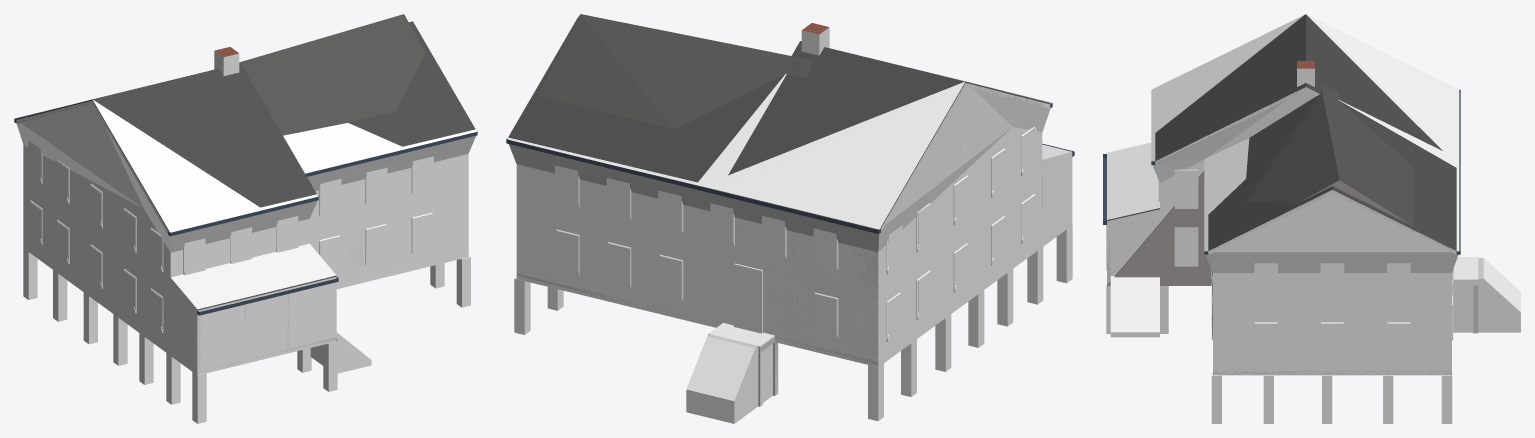
The model's file is eca_bld_house_01_a.dae.
3 renders of one model, left to right at view 1: azimuth 30°, elevation 25°; view 2: azimuth 150°, elevation 25°; view 3: azimuth 270°, elevation 25°, orthographic. The views are drawn at different scales.
Visible parts, largest first — view 1: Colmesh-1, eca_bld_house_01_a_a1100, eca_bld_house_01_a_a150, eca_bld_house_01_a_a20; view 2: Colmesh-1, eca_bld_house_01_a_a1100, eca_bld_house_01_a_a150, eca_bld_house_01_a_a20; view 3: Colmesh-1, eca_bld_house_01_a_a150, eca_bld_house_01_a_a1100, eca_bld_house_01_a_a20.
Boxes of the visible parts, x1,y1,x2,y2 form: Colmesh-1: (15,51,476,423); eca_bld_house_01_a_a1100: (14,21,475,375); eca_bld_house_01_a_a150: (18,47,477,375); eca_bld_house_01_a_a20: (239,14,442,341); Colmesh-1: (507,27,1072,423); eca_bld_house_01_a_a1100: (506,16,1074,406); eca_bld_house_01_a_a150: (508,23,1049,406); eca_bld_house_01_a_a20: (516,14,1042,363); Colmesh-1: (1106,14,1520,423); eca_bld_house_01_a_a150: (1103,61,1483,375); eca_bld_house_01_a_a1100: (1107,14,1520,375); eca_bld_house_01_a_a20: (1107,84,1413,285).
Size of the model in its own units: 14.4 by 15.75 by 10.99.
